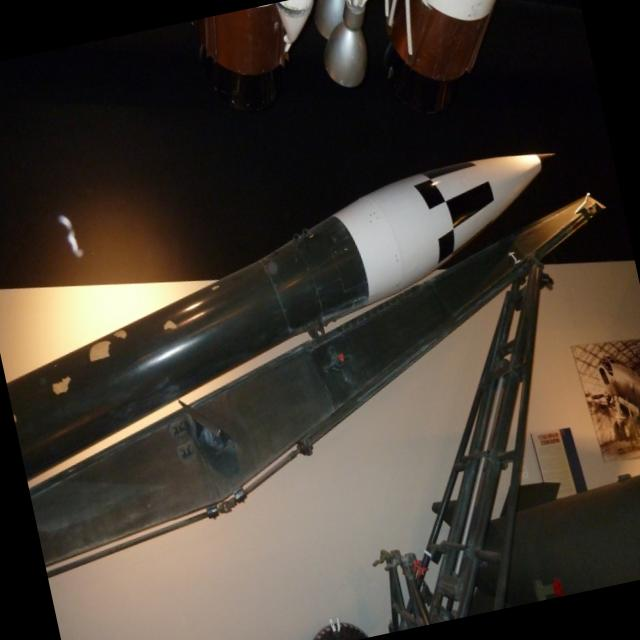rocket: (0, 135, 599, 476)
